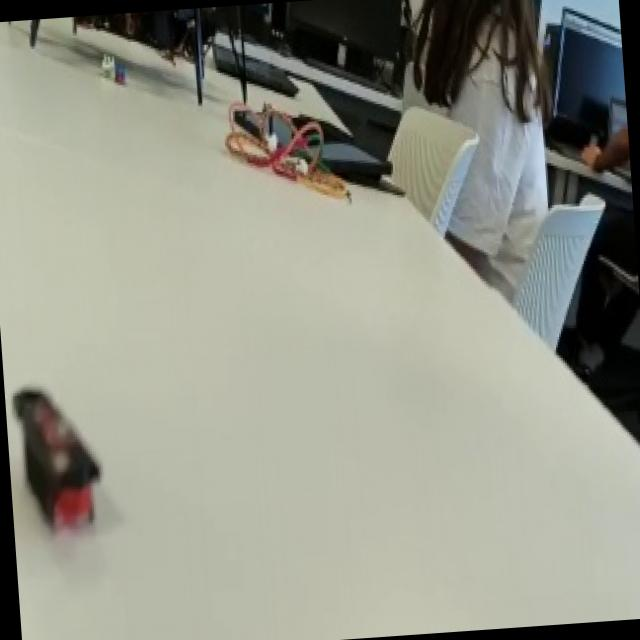2_NanoBug_Negro: (2, 358, 116, 556)
